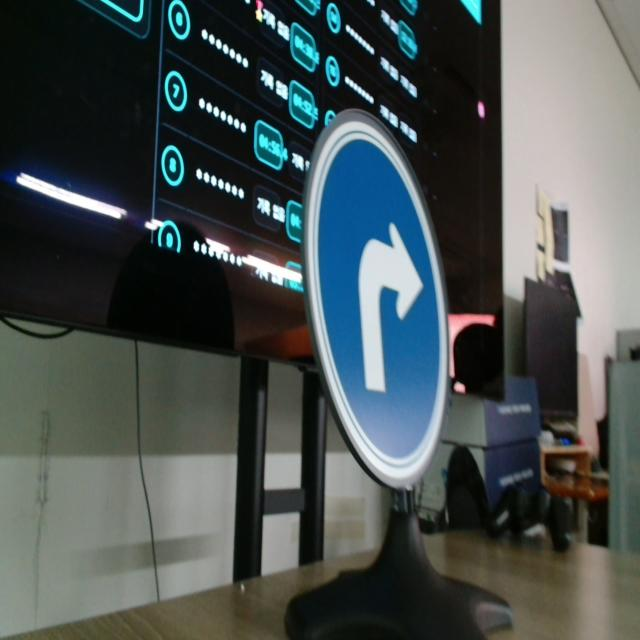right_dierection: (300, 98, 474, 518)
